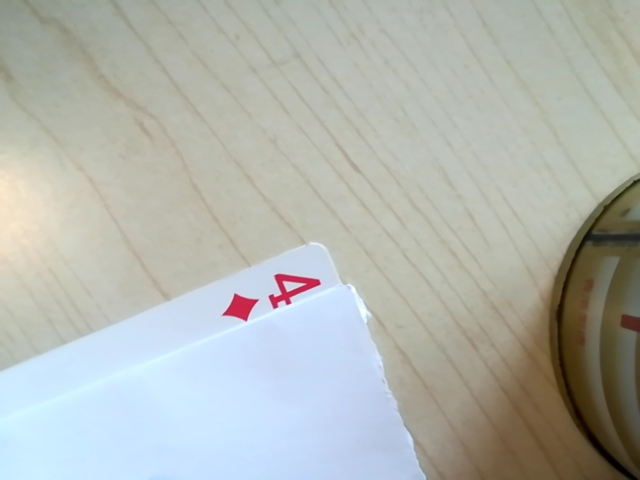fk 4: (204, 268, 333, 325)
